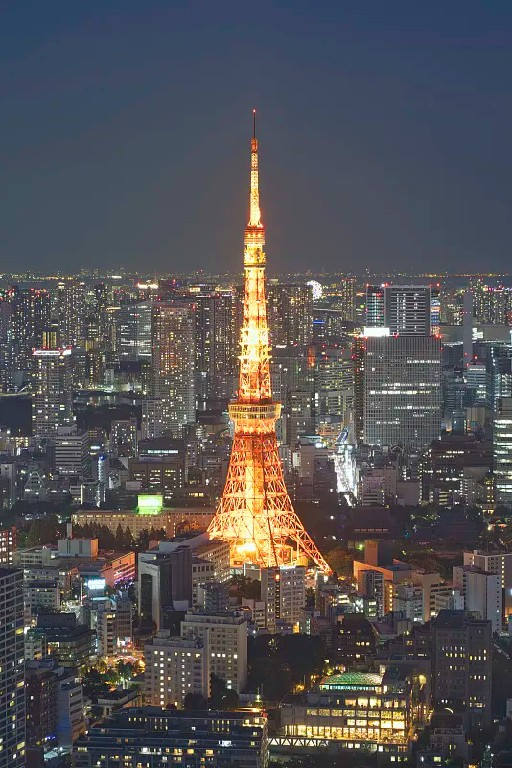Tokyo: (202, 100, 332, 582)
